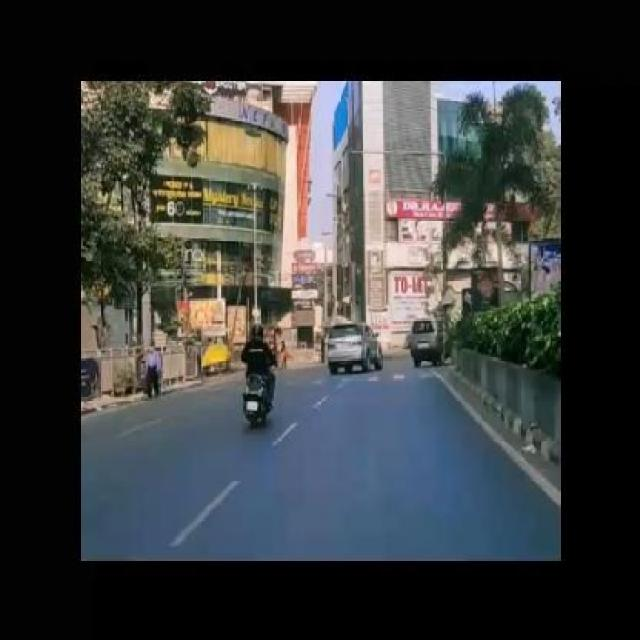car: (325, 320, 385, 377), (409, 318, 448, 366)
motorbike: (242, 322, 277, 431)
